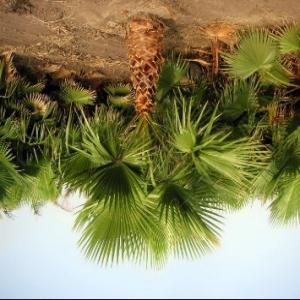palm tree: (0, 14, 299, 271)
